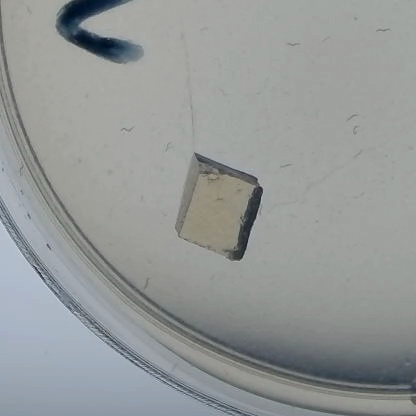worm: (373, 22, 393, 36), (118, 123, 138, 135), (141, 273, 153, 292), (160, 139, 175, 154), (21, 4, 37, 18), (216, 85, 232, 98), (278, 162, 298, 172), (343, 112, 361, 123), (353, 147, 366, 162), (351, 190, 368, 201), (349, 124, 363, 137), (287, 39, 302, 50), (196, 24, 215, 32), (321, 33, 332, 46)
